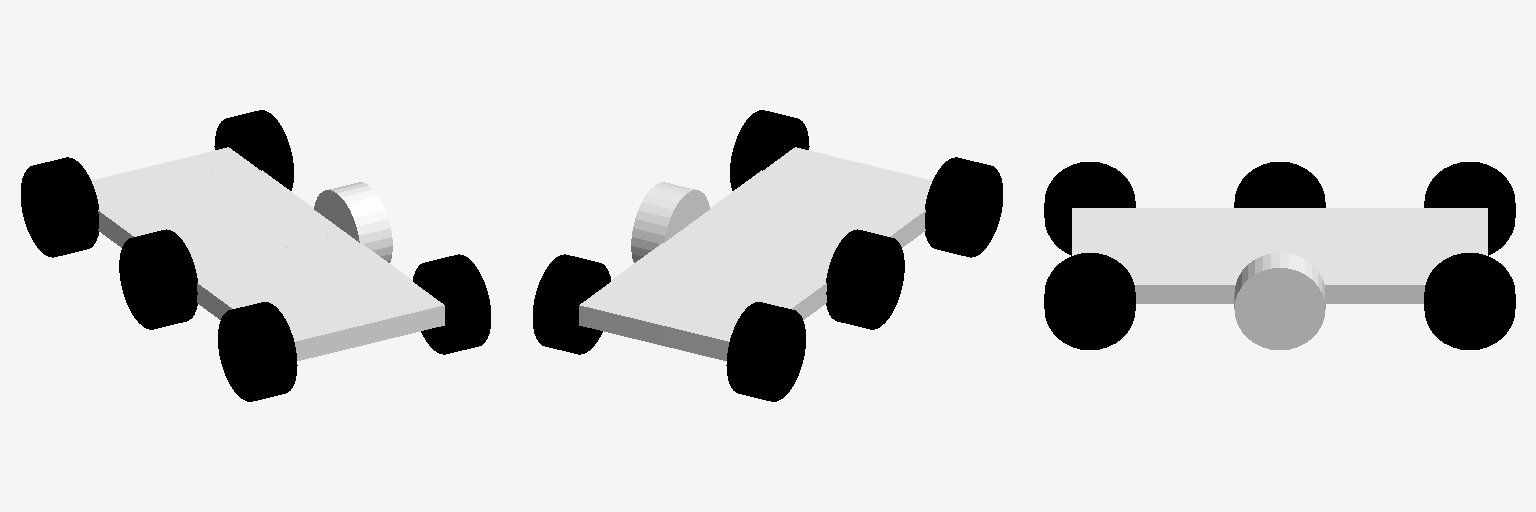
robot.urdf — cougarbot:
<?xml version="1.0"?>
<robot name ="cougarbot">
  
 <link name="base_link">
    <visual>
      <geometry>
        <box size="0.508 1.057 0.06"/>
      </geometry>
      <material name="white">
        <color rgba="1 1 1 1"/>
      </material>
    </visual>
     <collision>
      <geometry>
        <box size="0.508 1.057 0.12"/>
      </geometry>
    </collision>
    <inertial>
      <mass value="1.0"/>
      <inertia ixx="0.015" iyy="0.0375" izz="0.0375" ixy="0" ixz="0" iyz="0"/>
    </inertial>
  </link>
  
  <link name="front_wheel_left_axel">
    <visual>
      <geometry>
        <box size="0.3 .1 0.06"/>
      </geometry>
      <origin rpy="3.14 0 0" xyz="0 0 0"/>
      <material name="white">
        <color rgba="1 1 1 1"/>
      </material>
    </visual>
  </link>
  
    <link name="middle_wheel_left_axel">
    <visual>
      <geometry>
        <box size="0.3 .1 0.06"/>
      </geometry>
      <origin rpy="3.14 0 0" xyz="0 0 0"/>
      <material name="white">
        <color rgba="1 1 1 1"/>
      </material>
    </visual>
  </link>
  
    <link name="back_wheel_left_axel">
    <visual>
      <geometry>
        <box size="0.3 .1 0.06"/>
      </geometry>
      <origin rpy="3.14 0 0" xyz="0 0 0"/>
      <material name="white">
        <color rgba="1 1 1 1"/>
      </material>
    </visual>
  </link>
  
  
  <link name="front_wheel_right_axel">
    <visual>
      <geometry>
        <box size="0.3 .1 0.06"/>
      </geometry>
      <origin rpy="0 0 0" xyz="0 0 0"/>
      <material name="white">
        <color rgba="1 1 1 1"/>
      </material>
    </visual>
  </link>
  
    <link name="middle_wheel_right_axel">
    <visual>
      <geometry>
        <box size="0.3 .1 0.06"/>
      </geometry>
      <origin rpy="0 0 0" xyz="0 0 0"/>
      <material name="white">
        <color rgba="1 1 1 1"/>
      </material>
    </visual>
  </link>
  
    <link name="back_wheel_right_axel">
    <visual>
      <geometry>
        <box size="0.3 .1 0.06"/>
      </geometry>
      <origin rpy="0 0 0" xyz="0 0 0"/>
      <material name="white">
        <color rgba="1 1 1 1"/>
      </material>
    </visual>
  </link>
  
 <link name="fl_wheel">
   <visual>
     <geometry>
        <cylinder length="0.10" radius="0.127"/>
      </geometry>
      <origin rpy="0 1.5708 0" xyz="0 0 0"/>
      <material name="black">
        <color rgba="0 0 0 1"/>
      </material>
    </visual>
     <collision>
      <geometry>
        <cylinder length="0.1" radius="0.127"/>
      </geometry>
    </collision>
    <inertial>
      <mass value="0.1"/>
      <inertia ixx="5.1458e-5" iyy="5.1458e-5" izz="6.125e-5" ixy="0" ixz="0" iyz="0"/>
</inertial>
 </link>
  
   <link name="ml_wheel">
   <visual>
     <geometry>
        <cylinder length="0.10" radius="0.127"/>
      </geometry>
      <origin rpy="0 1.5708 0" xyz="0 0 0"/>
      <material name="white">
        <color rgba="1 1 1 1"/>
      </material>
    </visual>
      <collision>
      <geometry>
        <cylinder length="0.1" radius="0.127"/>
      </geometry>
    </collision>
    <inertial>
      <mass value="0.1"/>
      <inertia ixx="5.1458e-5" iyy="5.1458e-5" izz="6.125e-5" ixy="0" ixz="0" iyz="0"/>
</inertial>
 </link>
  
   <link name="bl_wheel">
   <visual>
     <geometry>
        <cylinder length="0.10" radius="0.127"/>
      </geometry>
      <origin rpy="0 1.5708 0" xyz="0 0 0"/>
      <material name="black">
        <color rgba="0 0 0 1"/>
      </material>
    </visual>
      <collision>
      <geometry>
        <cylinder length="0.1" radius="0.127"/>
      </geometry>
    </collision>
    <inertial>
      <mass value="0.1"/>
      <inertia ixx="5.1458e-5" iyy="5.1458e-5" izz="6.125e-5" ixy="0" ixz="0" iyz="0"/>
</inertial>
 </link>
  
   
 <link name="fr_wheel">
   <visual>
     <geometry>
        <cylinder length="0.10" radius="0.127"/>
      </geometry>
      <origin rpy="0 1.5708 0" xyz="0 0 0"/>
      <material name="black">
        <color rgba="0 0 0 1"/>
      </material>
    </visual>
     <collision>
      <geometry>
        <cylinder length="0.1" radius="0.127"/>
      </geometry>
    </collision>
    <inertial>
      <mass value="0.1"/>
      <inertia ixx="5.1458e-5" iyy="5.1458e-5" izz="6.125e-5" ixy="0" ixz="0" iyz="0"/>
</inertial>
 </link>
  
   <link name="mr_wheel">
   <visual>
     <geometry>
        <cylinder length="0.10" radius="0.127"/>
      </geometry>
      <origin rpy="0 1.5708 0" xyz="0 0 0"/>
      <material name="black">
        <color rgba="0 0 0 1"/>
      </material>
    </visual>
      <collision>
      <geometry>
        <cylinder length="0.1" radius="0.127"/>
      </geometry>
    </collision>
    <inertial>
      <mass value="0.1"/>
      <inertia ixx="5.1458e-5" iyy="5.1458e-5" izz="6.125e-5" ixy="0" ixz="0" iyz="0"/>
</inertial>
 </link>
  
   <link name="br_wheel">
   <visual>
     <geometry>
        <cylinder length="0.10" radius="0.127"/>
      </geometry>
      <origin rpy="0 1.5708 0" xyz="0 0 0"/>
      <material name="black">
        <color rgba="0 0 0 1"/>
      </material>
    </visual>
       <collision>
      <geometry>
        <cylinder length="0.1" radius="0.127"/>
      </geometry>
    </collision>
    <inertial>
      <mass value="0.1"/>
      <inertia ixx="5.1458e-5" iyy="5.1458e-5" izz="6.125e-5" ixy="0" ixz="0" iyz="0"/>
</inertial>
 </link>
  
  
  <joint name="front_left_jointconnect" type="fixed">
       <parent link="base_link"/>
       <child link="front_wheel_left_axel"/>
      <origin xyz="0.15 -0.5285 0"/>
  </joint>
  
   <joint name="middle_left_jointconnect" type="fixed">
       <parent link="base_link"/>
       <child link="middle_wheel_left_axel"/>
      <origin xyz="0.15 0 0"/>
  </joint>
  
   <joint name="back_left_jointconnect" type="fixed">
       <parent link="base_link"/>
       <child link="back_wheel_left_axel"/>
      <origin xyz="0.15 0.5285 0"/>
  </joint>
  
  <joint name="front_right_jointconnect" type="fixed">
       <parent link="base_link"/>
       <child link="front_wheel_right_axel"/>
      <origin xyz="-0.15 -0.5285 0"/>
  </joint>
  
   <joint name="middle_right_jointconnect" type="fixed">
       <parent link="base_link"/>
       <child link="middle_wheel_right_axel"/>
      <origin xyz="-0.15 0 0"/>
  </joint>
  
   <joint name="back_right_jointconnect" type="fixed">
       <parent link="base_link"/>
       <child link="back_wheel_right_axel"/>
      <origin xyz="-0.15 0.5285 0"/>
  </joint>
  
    <joint name="front_left_wheelconnect" type="continuous">
       <axis xyz="1 0 0"/>
       <parent link="base_link"/>
       <child link="fl_wheel"/>
      <origin xyz="0.3 0.5285 0"/>
  </joint>
  
    <joint name="back_left_wheelconnect" type="continuous">
       <axis xyz="1 0 0"/>
       <parent link="base_link"/>
       <child link="bl_wheel"/>
      <origin xyz="0.3 -0.5285 0"/>
  </joint>
  
    <joint name="middle_left_wheelconnect" type="continuous">
       <axis xyz="1 0 0"/>
       <parent link="base_link"/>
       <child link="ml_wheel"/>
      <origin xyz="0.3 0 0"/>
  </joint>
  
   <joint name="front_right_wheelconnect" type="continuous">
      <axis xyz="1 0 0"/>
       <parent link="base_link"/>
       <child link="fr_wheel"/>
      <origin xyz="-0.3 0.5285 0"/>
  </joint>
  
    <joint name="back_right_wheelconnect" type="continuous">
       <axis xyz="1 0 0"/>
       <parent link="base_link"/>
       <child link="br_wheel"/>
      <origin xyz="-0.3 -0.5285 0"/>
  </joint>
  
    <joint name="middle_right_wheelconnect" type="continuous">
       <axis xyz="1 0 0"/>
       <parent link="base_link"/>
       <child link="mr_wheel"/>
      <origin xyz="-0.3 0 0"/>
  </joint>
  
    <gazebo>
    <plugin name="differential_drive_controller" filename="libgazebo_ros_diff_drive.so">
      <leftJoint>middle_left_wheelconnect</leftJoint>
      <rightJoint>middle_right_wheelconnect</rightJoint>
      <robotBaseFrame>base_link</robotBaseFrame>
      <wheelSeparation>0.6</wheelSeparation>
      <wheelDiameter>0.254</wheelDiameter>
      <publishWheelJointState>true</publishWheelJointState>
    </plugin>
  </gazebo>

  
</robot>

--- What the picture shows (computed from the rendered views, not written in the file) ---
The picture shows the robot from 3 angles, left to right: view 1: azimuth 30°, elevation 25°; view 2: azimuth 150°, elevation 25°; view 3: azimuth 270°, elevation 25°; orthographic projection.
Robot: cougarbot — 13 links, 12 joints (6 continuous, 6 fixed); root link base_link; default pose: all joints at 0.
Links seen in each view (by area): view 1: base_link, br_wheel, fr_wheel, mr_wheel, bl_wheel, fl_wheel, ml_wheel, front_wheel_left_axel, front_wheel_right_axel, back_wheel_left_axel, middle_wheel_left_axel, middle_wheel_right_axel (+1 smaller); view 2: base_link, fr_wheel, br_wheel, mr_wheel, fl_wheel, bl_wheel, ml_wheel, back_wheel_left_axel, back_wheel_right_axel, front_wheel_left_axel, middle_wheel_left_axel, front_wheel_right_axel; view 3: base_link, fl_wheel, ml_wheel, bl_wheel, fr_wheel, br_wheel, mr_wheel, front_wheel_right_axel, back_wheel_right_axel.
Link boxes in pixels (<box>): base_link: <box>95,161,434,332</box>; br_wheel: <box>218,302,297,401</box>; fr_wheel: <box>21,157,98,257</box>; mr_wheel: <box>119,229,197,329</box>; bl_wheel: <box>413,254,490,354</box>; fl_wheel: <box>214,110,293,190</box>; ml_wheel: <box>314,182,392,262</box>; front_wheel_left_axel: <box>355,298,444,344</box>; front_wheel_right_axel: <box>289,312,363,360</box>; back_wheel_left_axel: <box>149,147,246,179</box>; middle_wheel_left_axel: <box>257,226,345,252</box>; middle_wheel_right_axel: <box>190,239,264,265</box>; base_link: <box>598,154,928,332</box>; fr_wheel: <box>726,302,805,401</box>; br_wheel: <box>925,157,1002,257</box>; mr_wheel: <box>826,229,904,329</box>; fl_wheel: <box>533,254,610,354</box>; bl_wheel: <box>730,110,809,190</box>; ml_wheel: <box>631,182,709,262</box>; back_wheel_left_axel: <box>579,292,677,344</box>; back_wheel_right_axel: <box>660,318,731,360</box>; front_wheel_left_axel: <box>786,147,874,173</box>; middle_wheel_left_axel: <box>688,219,776,245</box>; front_wheel_right_axel: <box>858,167,931,193</box>; base_link: <box>1090,208,1469,303</box>; fl_wheel: <box>1424,253,1515,349</box>; ml_wheel: <box>1234,253,1325,349</box>; bl_wheel: <box>1044,253,1135,349</box>; fr_wheel: <box>1424,162,1515,255</box>; br_wheel: <box>1044,162,1135,255</box>; mr_wheel: <box>1234,162,1325,207</box>; front_wheel_right_axel: <box>1072,208,1089,245</box>; back_wheel_right_axel: <box>1470,208,1487,245</box>.
Bounding box of the posed robot: 0.7 × 1.31 × 0.254 m (x, y, z).
Geometry: primitives only (box / cylinder / sphere), no mesh files.